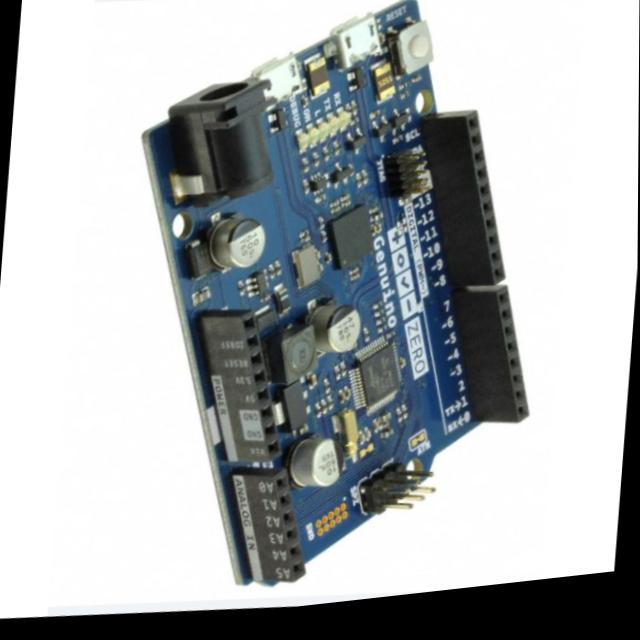Arduino-Zero: (144, 1, 529, 585)
